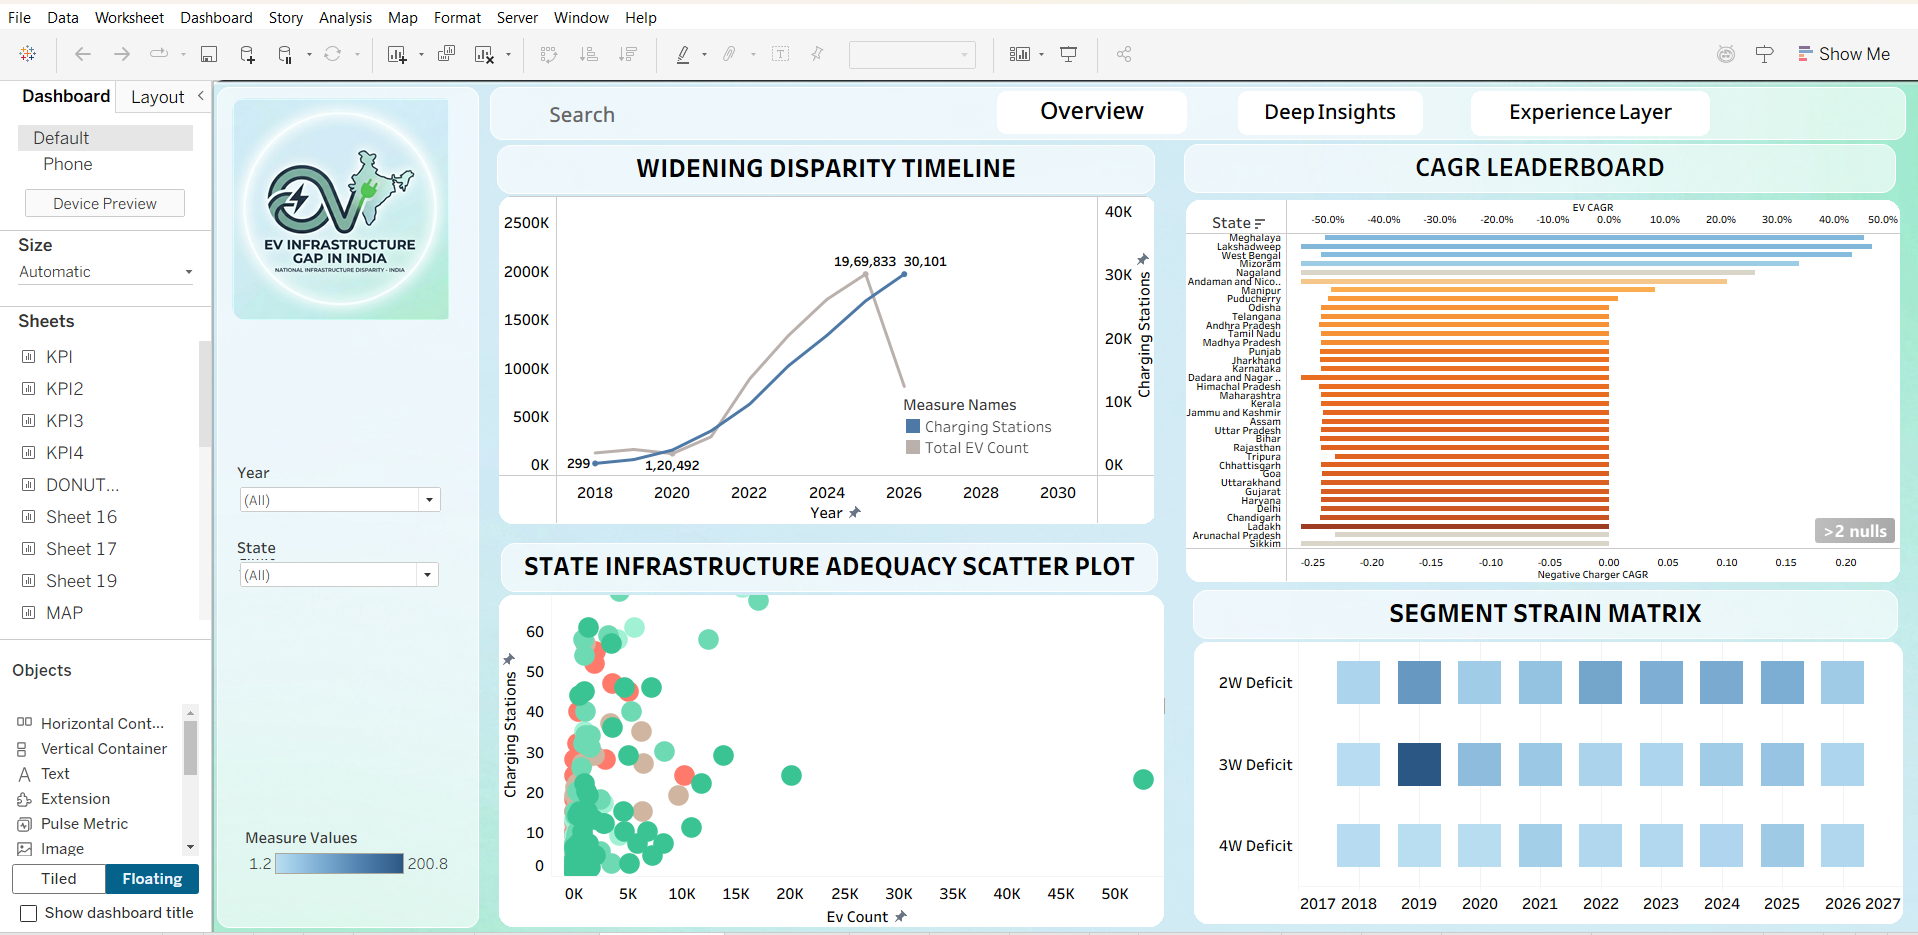

The dashboard page shown, as its layout file describes it:
{"tool":"tableau","page":{"name":"Dashboard 6","canvas":[1000,1000],"units":"permille","ordinal":1},"visuals":[{"type":"worksheet","title":"Sheet 26","mark":"Automatic","box":[3.5,9.4,152.2,985.9]},{"type":"worksheet","title":"Sheet 27","mark":"Automatic","box":[163.3,9.4,828.4,59.9]},{"type":"dashboard-object","box":[460.1,12.9,111,50.5]},{"type":"dashboard-object","box":[601.1,12.9,108.1,51.7]},{"type":"dashboard-object","box":[737.4,12.9,140.4,52.9]},{"type":"text","box":[195.7,15.3,121,54.1]},{"type":"image","param":"C:/Users/theza/Downloads/LOGOEVDASH.png","box":[11.5,21.2,131,260.9]},{"type":"image","param":"C:/Users/theza/AppData/Local/Temp/TableauTemp/1r8lqsn1yjx1bv1ckjpbs1vob2ho/Sheet","box":[172.7,24.7,18.6,32.9]},{"type":"text","box":[570.2,76.4,416.2,49.4]},{"type":"text","box":[167.7,77.6,384.5,49.4]},{"type":"worksheet","title":"DUAL LINE CHART","mark":"Line","rows":["Calculation_0283136489463808","CHARGING_STATIONS"],"cols":["Year"],"box":[168.3,136.3,384.5,385.4]},{"type":"worksheet","title":"CAGR LEADERBOARD","mark":"Automatic","rows":["State"],"cols":["Calculation_1512666058665994","Calculation_1512666057691143"],"box":[570.3,141,418.8,448.9]},{"type":"legend","title":"DUAL LINE CHART","param":"[federated.13gvhhg19wd4i118qc4a7122l8m8].[:Measure Names]","box":[405,369,108.1,79.9]},{"type":"filter","title":"SCATTER PLOT","param":"[federated.13gvhhg19wd4i118qc4a7122l8m8].[none:Year:ok]","box":[14.9,448.9,121.1,92.8]},{"type":"filter","title":"SEGMENTED MATRIX","param":"[federated.13gvhhg19wd4i118qc4a7122l8m8].[none:State:nk]","box":[14.9,537,119.9,62.3]},{"type":"text","box":[170.2,545.2,383.9,49.4]},{"type":"text","box":[575.1,600.5,411.8,49.4]},{"type":"worksheet","title":"SCATTER PLOT","mark":"Circle","rows":["CHARGING_STATIONS"],"cols":["EV_COUNT"],"box":[168.3,605.2,389.4,390.1]},{"type":"worksheet","title":"SEGMENTED MATRIX","mark":"Square","cols":["Year"],"box":[575.1,660.4,415.2,331.4]},{"type":"legend","title":"CAGR LEADERBOARD","param":"[federated.13gvhhg19wd4i118qc4a7122l8m8].[usr:Calculation_1512666058416137:qk]","box":[473.9,695.6,87,103.4]},{"type":"legend","title":"SEGMENTED MATRIX","param":"[federated.13gvhhg19wd4i118qc4a7122l8m8].[Multiple Values]","box":[19.3,877.8,121.9,71.7]}]}

Visuals, with their boxes on the dashboard's canvas, which has no fixed pixel size, in thousandths of its width and height (x1, y1, x2, y2). These are canvas units, not pixel positions in the 1918x935 screenshot, which may show the page scaled, cropped or inside an application window:
"Sheet 26" worksheet: (x1=4, y1=9, x2=156, y2=995)
"Sheet 27" worksheet: (x1=163, y1=9, x2=992, y2=69)
dashboard-object: (x1=460, y1=13, x2=571, y2=63)
dashboard-object: (x1=601, y1=13, x2=709, y2=65)
dashboard-object: (x1=737, y1=13, x2=878, y2=66)
text: (x1=196, y1=15, x2=317, y2=69)
image: (x1=12, y1=21, x2=142, y2=282)
image: (x1=173, y1=25, x2=191, y2=58)
text: (x1=570, y1=76, x2=986, y2=126)
text: (x1=168, y1=78, x2=552, y2=127)
"DUAL LINE CHART" worksheet (Line marks): (x1=168, y1=136, x2=553, y2=522)
"CAGR LEADERBOARD" worksheet: (x1=570, y1=141, x2=989, y2=590)
"DUAL LINE CHART" legend: (x1=405, y1=369, x2=513, y2=449)
"SCATTER PLOT" filter: (x1=15, y1=449, x2=136, y2=542)
"SEGMENTED MATRIX" filter: (x1=15, y1=537, x2=135, y2=599)
text: (x1=170, y1=545, x2=554, y2=595)
text: (x1=575, y1=600, x2=987, y2=650)
"SCATTER PLOT" worksheet (Circle marks): (x1=168, y1=605, x2=558, y2=995)
"SEGMENTED MATRIX" worksheet (Square marks): (x1=575, y1=660, x2=990, y2=992)
"CAGR LEADERBOARD" legend: (x1=474, y1=696, x2=561, y2=799)
"SEGMENTED MATRIX" legend: (x1=19, y1=878, x2=141, y2=950)
